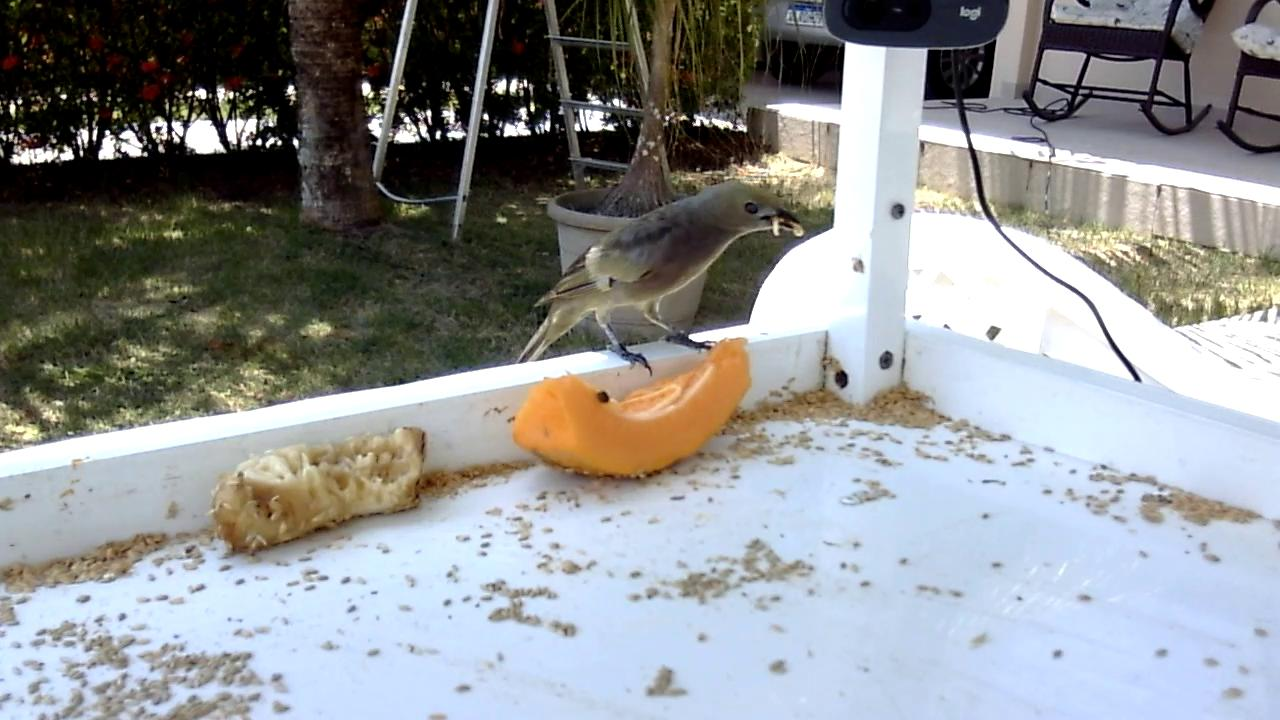sanhaco_do_coqueiro: (518, 175, 807, 381)
